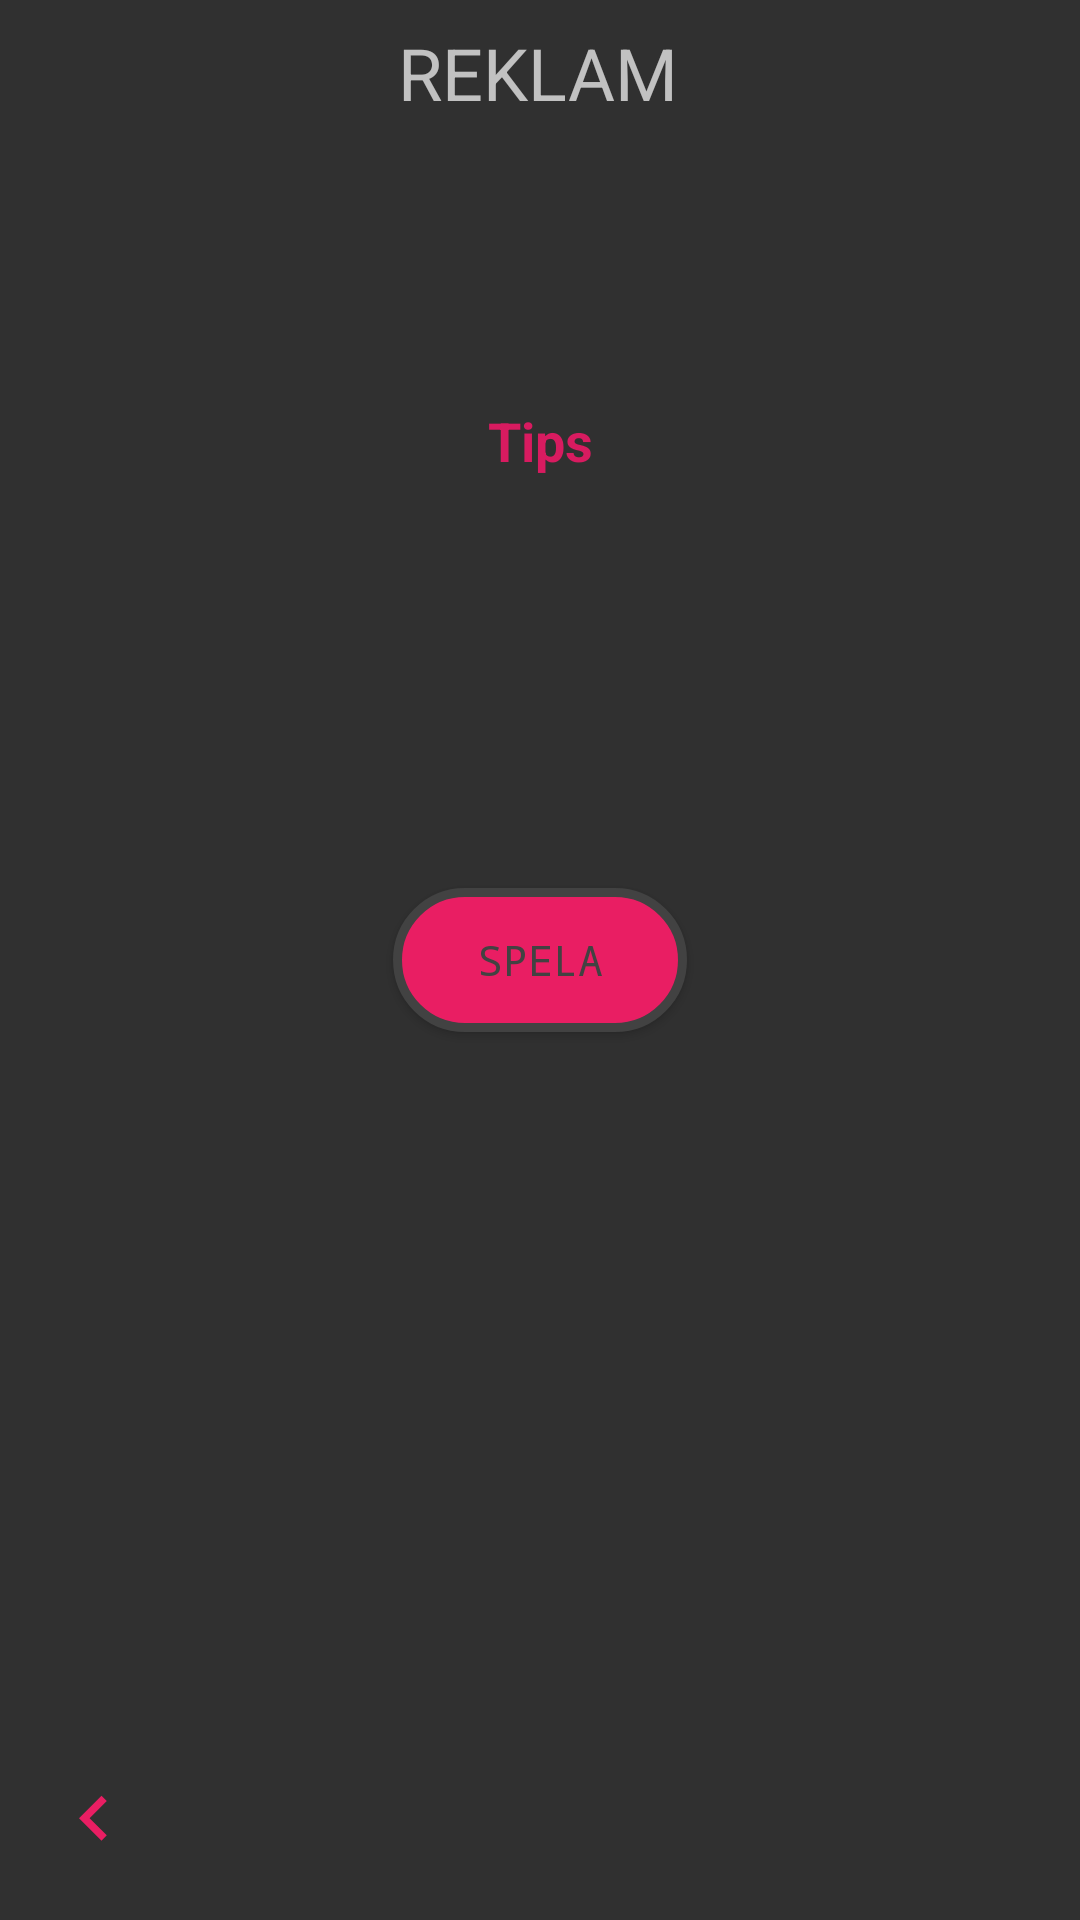

Named icons in this screenshot (1080x1920) and their centers, (x=x, y=y):
keyboard arrow left: (x=93, y=1818)
